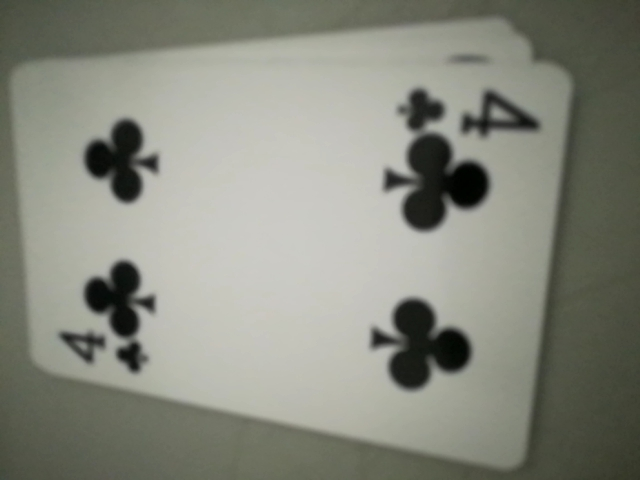mh 4: (393, 70, 549, 142), (49, 326, 152, 380)
